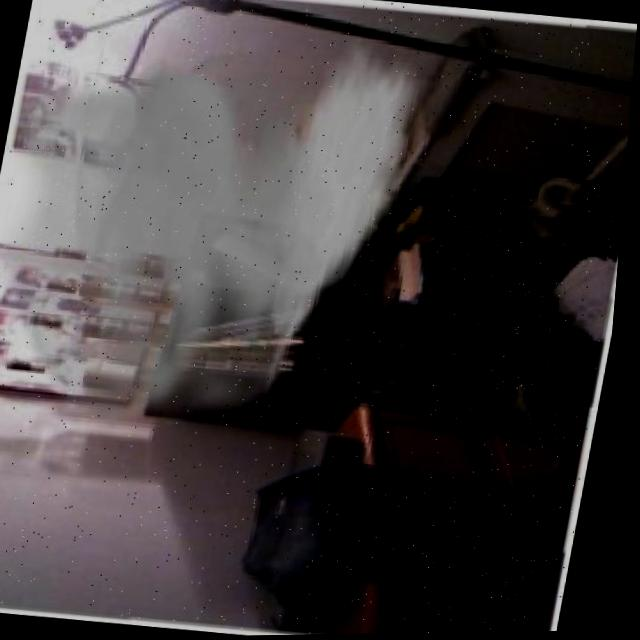Smoke: (6, 0, 443, 412)
